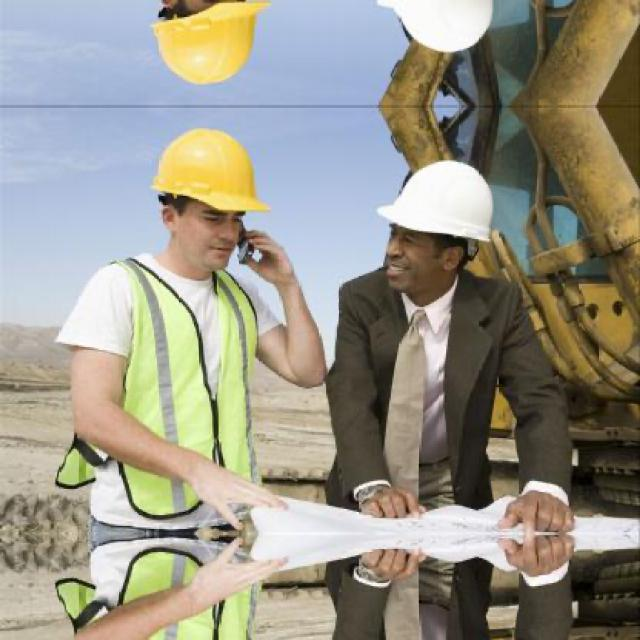helmet: (136, 107, 276, 279), (363, 148, 511, 308), (135, 0, 277, 108), (362, 0, 511, 66)
